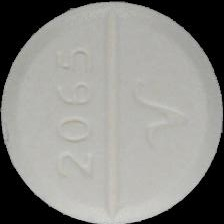68084-373: (0, 0, 224, 224)
